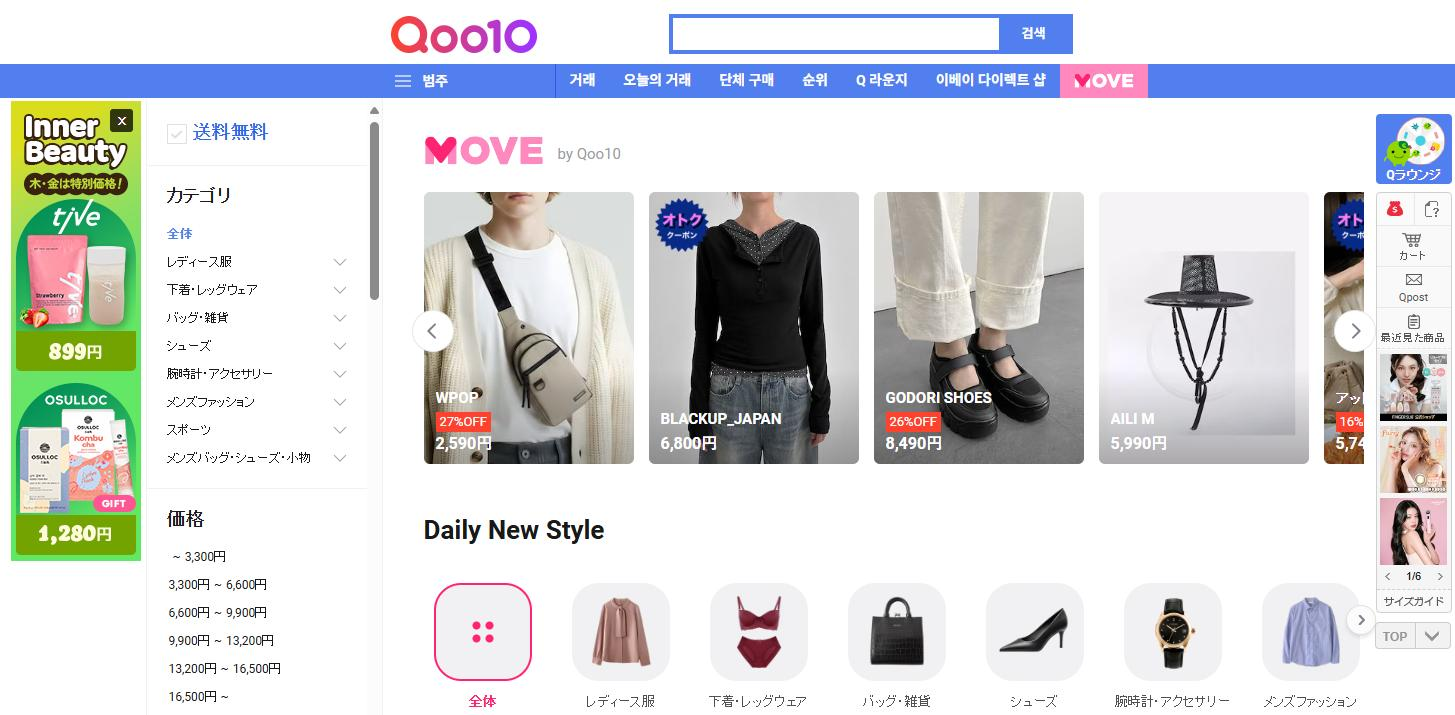button: (160, 415, 353, 444), (158, 251, 360, 275), (163, 307, 356, 331), (157, 336, 352, 359), (159, 279, 355, 300), (155, 452, 356, 471), (164, 393, 349, 412), (930, 69, 1051, 95), (160, 367, 354, 382), (618, 66, 699, 94), (1006, 15, 1062, 48), (378, 70, 456, 93), (1063, 68, 1144, 90), (856, 65, 916, 94), (716, 68, 780, 94), (790, 64, 832, 94), (566, 73, 604, 93)
checkbox: (157, 114, 272, 151)
popup: (6, 102, 140, 566), (1376, 113, 1455, 652)
